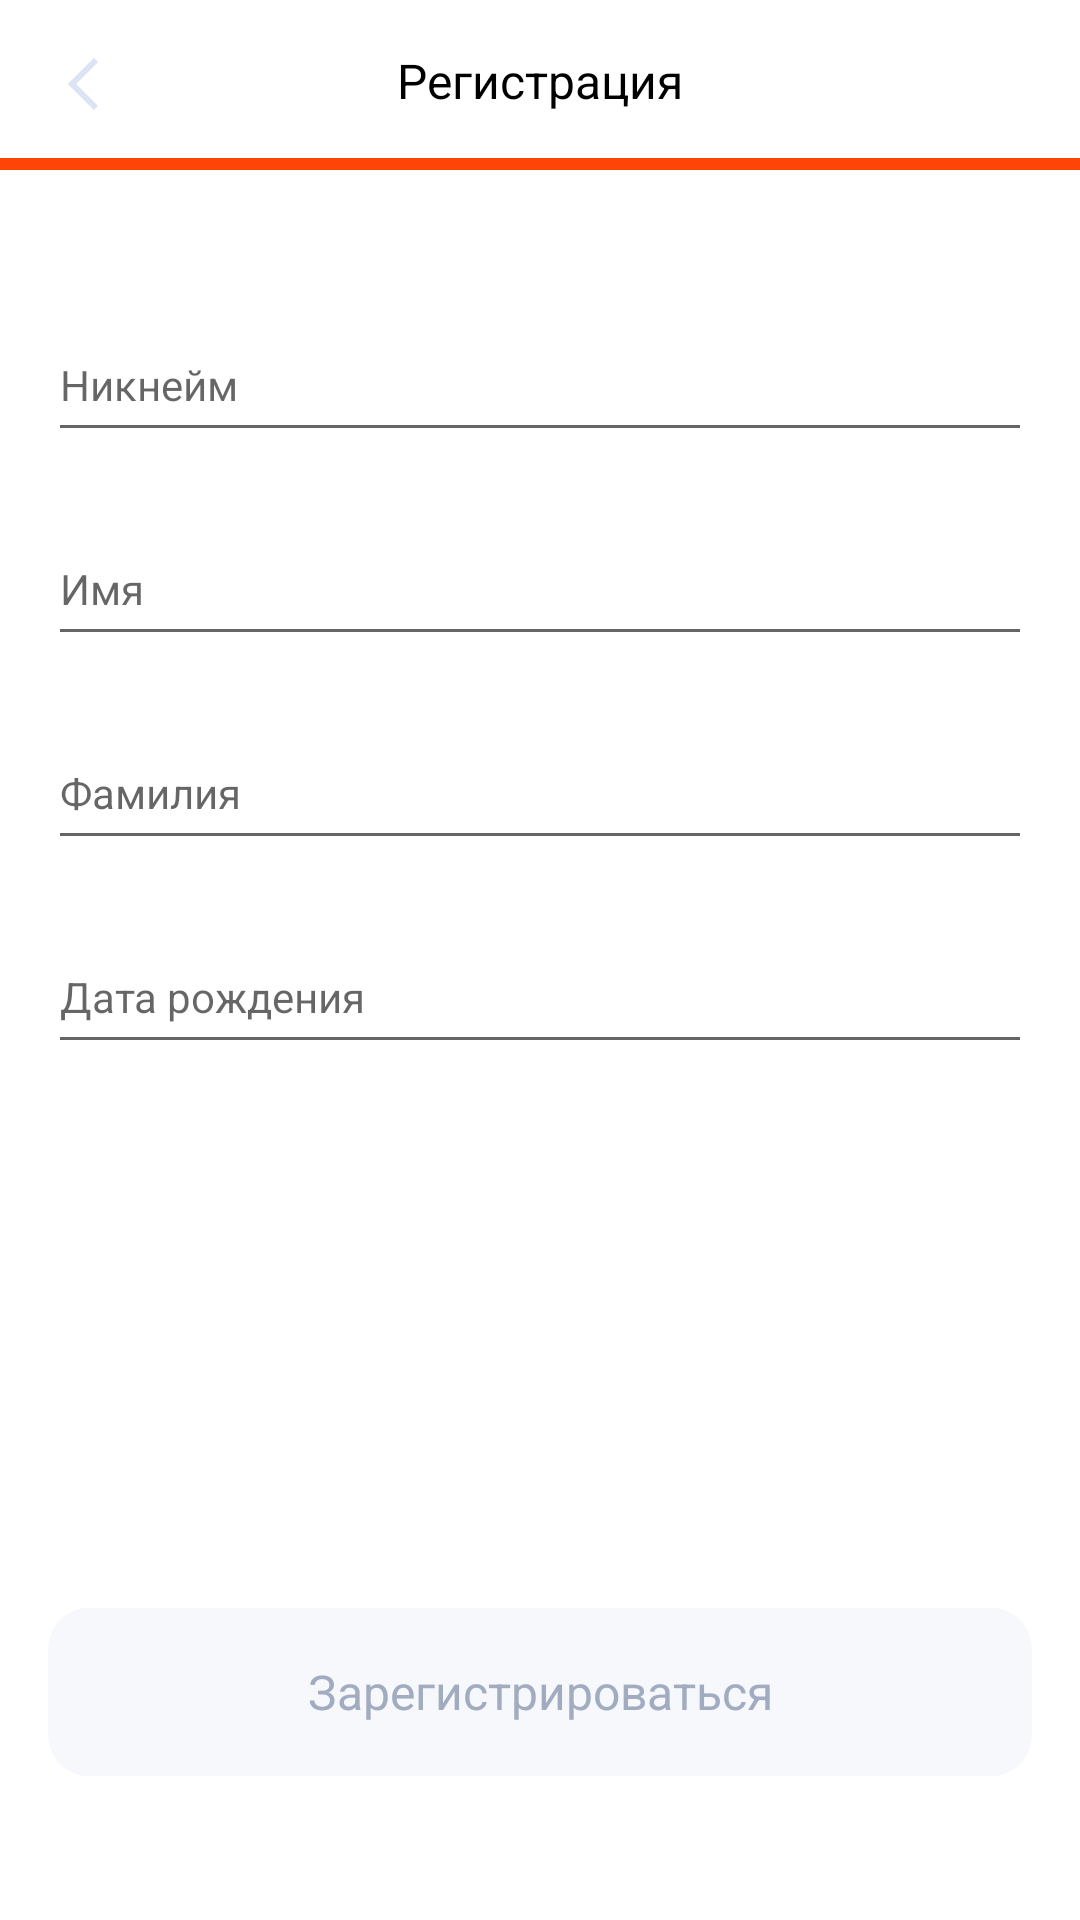

Named icons in this screenshot (1080px×1920px) and their bounding boxes, [x1,y1,x2,y2]:
back arrow: [68,59,97,109]
